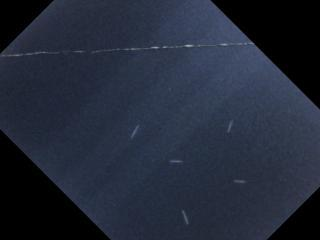crack: (0, 40, 254, 58)
scratch: (128, 124, 140, 142), (181, 209, 190, 225), (227, 119, 234, 133), (169, 159, 184, 164), (233, 179, 247, 184)
